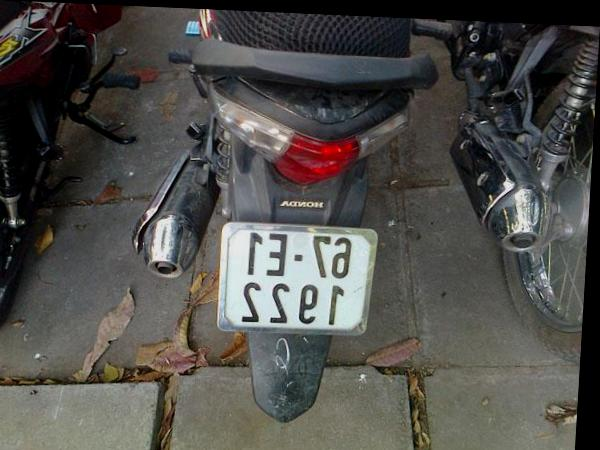License_Plate: (217, 228, 368, 336)
